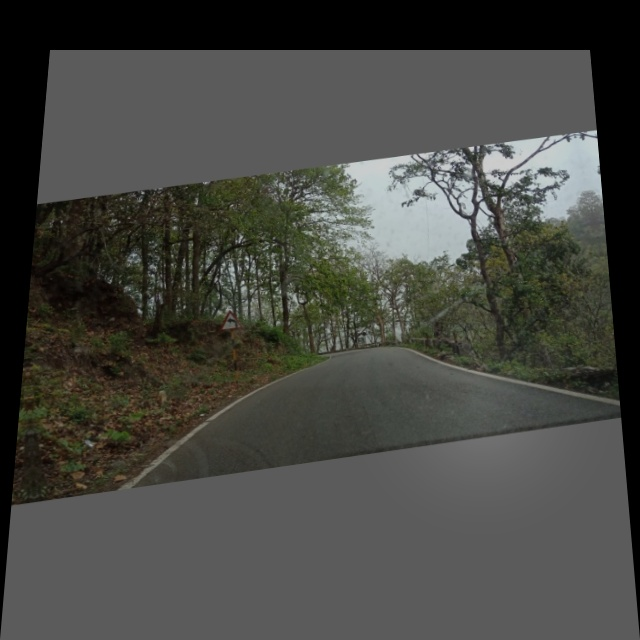Left_Hand_Curve: (216, 305, 244, 336)
